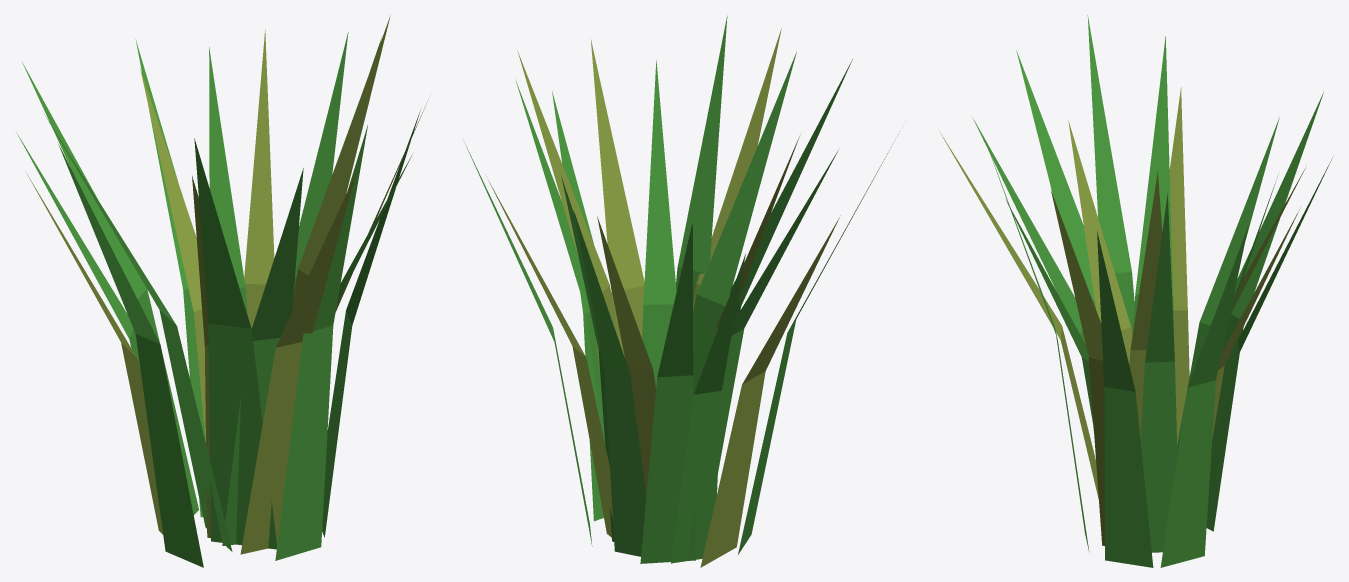
File: grass_clump_b.glb
3 renders of one model, left to right at view 1: azimuth 30°, elevation 25°; view 2: azimuth 150°, elevation 25°; view 3: azimuth 270°, elevation 25°, orthographic. The views are drawn at different scales.
Parts seen in each view (by area): view 1: grass_clump_b; view 2: grass_clump_b; view 3: grass_clump_b.
Part boxes in pixels (x1,y1,x2,y2): grass_clump_b: (16,15,427,567); grass_clump_b: (462,16,898,567); grass_clump_b: (938,15,1332,567).
Bounding box in the file's own units: 0.4297 × 0.5181 × 0.4311.
